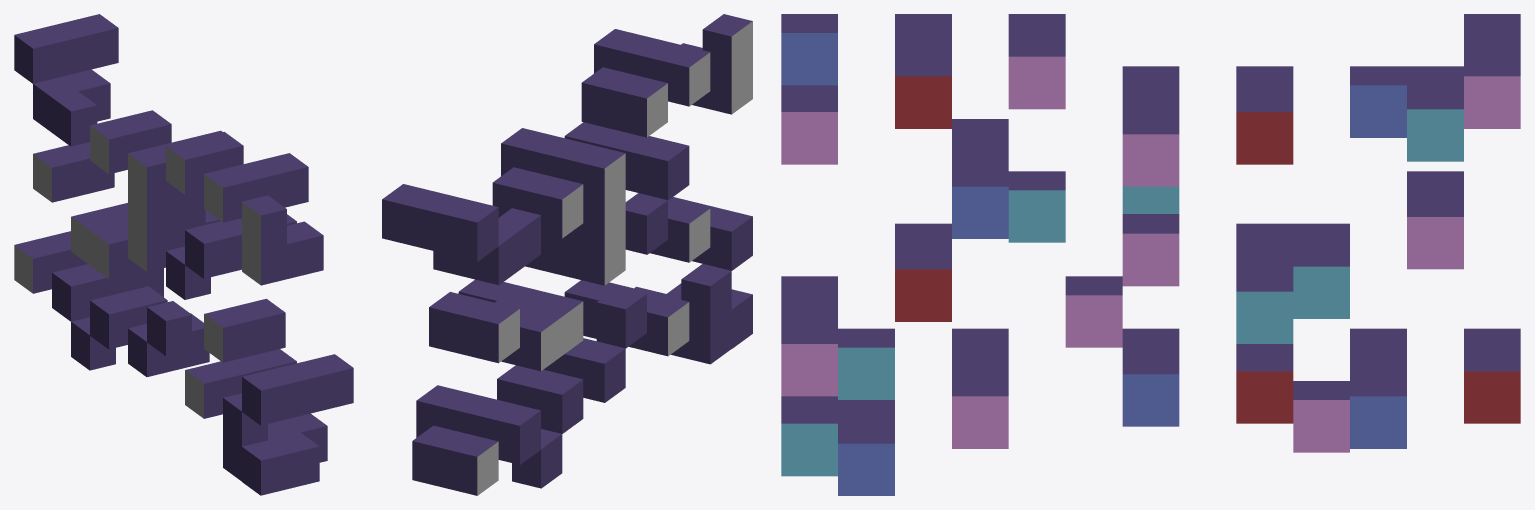
The model's file is cubes.fbx.
3 views of the same model, side by side, from view 1: azimuth 30°, elevation 25°; view 2: azimuth 150°, elevation 25°; view 3: azimuth 270°, elevation 25° (orthographic). The views are drawn at different scales.
Visible parts, largest first — view 1: pCube4; view 2: pCube4; view 3: pCube4.
Part boxes in pixels (box(x1,y1,x2,y2)): pCube4: box(14, 14, 353, 495); pCube4: box(382, 14, 752, 495); pCube4: box(781, 14, 1520, 495).
Size of the model in its own units: 17.33 by 50.06 by 79.89.
